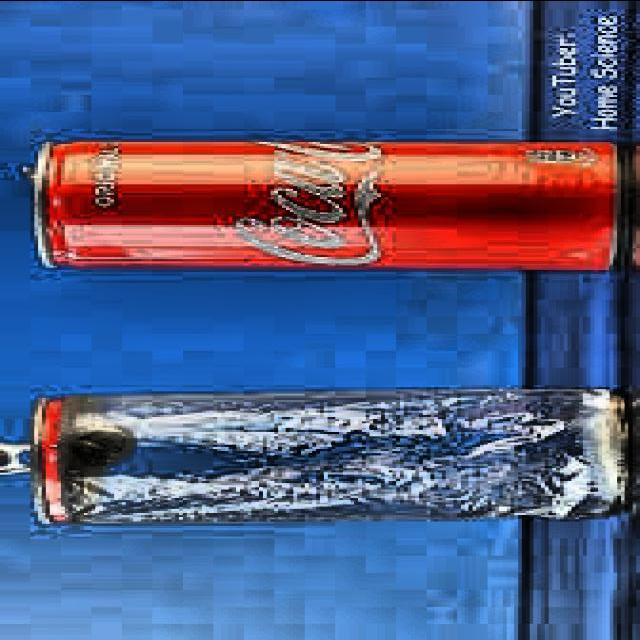Aluminum Can: (14, 132, 632, 278)
